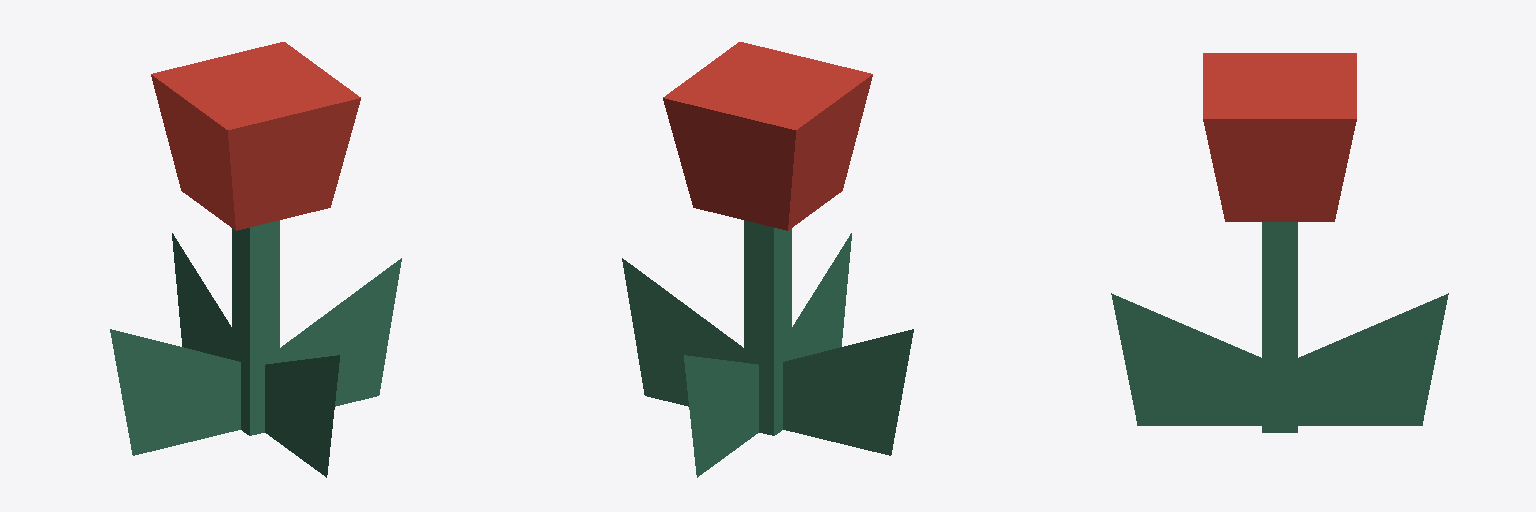
3 views of the same model, side by side, from view 1: azimuth 30°, elevation 25°; view 2: azimuth 150°, elevation 25°; view 3: azimuth 270°, elevation 25° (orthographic).
Parts seen in each view (by area): view 1: Mesh1 Flower_Tall_Red Model, Mesh5 Flower_Tall_Red Model, Mesh2 Flower_Tall_Red Model, Mesh4 Flower_Tall_Red Model, Mesh3 Flower_Tall_Red Model; view 2: Mesh1 Flower_Tall_Red Model, Mesh5 Flower_Tall_Red Model, Mesh2 Flower_Tall_Red Model, Mesh3 Flower_Tall_Red Model, Mesh4 Flower_Tall_Red Model; view 3: Mesh1 Flower_Tall_Red Model, Mesh3 Flower_Tall_Red Model, Mesh4 Flower_Tall_Red Model.
Boxes of the visible parts, <box> form: Mesh1 Flower_Tall_Red Model: <box>151,42,360,435</box>; Mesh5 Flower_Tall_Red Model: <box>110,329,240,455</box>; Mesh2 Flower_Tall_Red Model: <box>280,258,401,406</box>; Mesh4 Flower_Tall_Red Model: <box>265,355,339,477</box>; Mesh3 Flower_Tall_Red Model: <box>172,233,231,359</box>; Mesh1 Flower_Tall_Red Model: <box>663,42,872,435</box>; Mesh5 Flower_Tall_Red Model: <box>783,329,913,455</box>; Mesh2 Flower_Tall_Red Model: <box>622,258,743,406</box>; Mesh3 Flower_Tall_Red Model: <box>684,355,758,477</box>; Mesh4 Flower_Tall_Red Model: <box>792,233,851,359</box>; Mesh1 Flower_Tall_Red Model: <box>1203,53,1356,432</box>; Mesh3 Flower_Tall_Red Model: <box>1298,293,1448,425</box>; Mesh4 Flower_Tall_Red Model: <box>1111,293,1261,425</box>.
Size of the model in its own units: 0.4859 by 0.54 by 0.4859.
Materials: 1 (1 with a texture image).